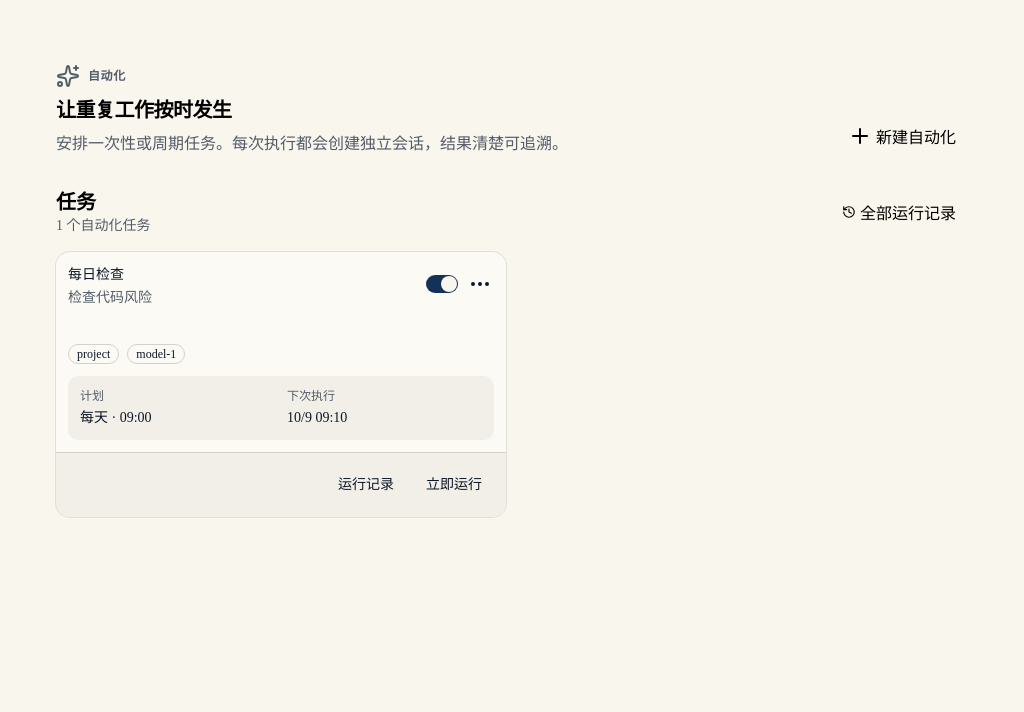
Test: automationsPage › 创建任务时使用平台中立的命令权限配置
The width and height of the screenshot is (1024, 712).
Click the button "新建自动化". click: (902, 136)
box: [836,116,968,156]
(page scrolled)
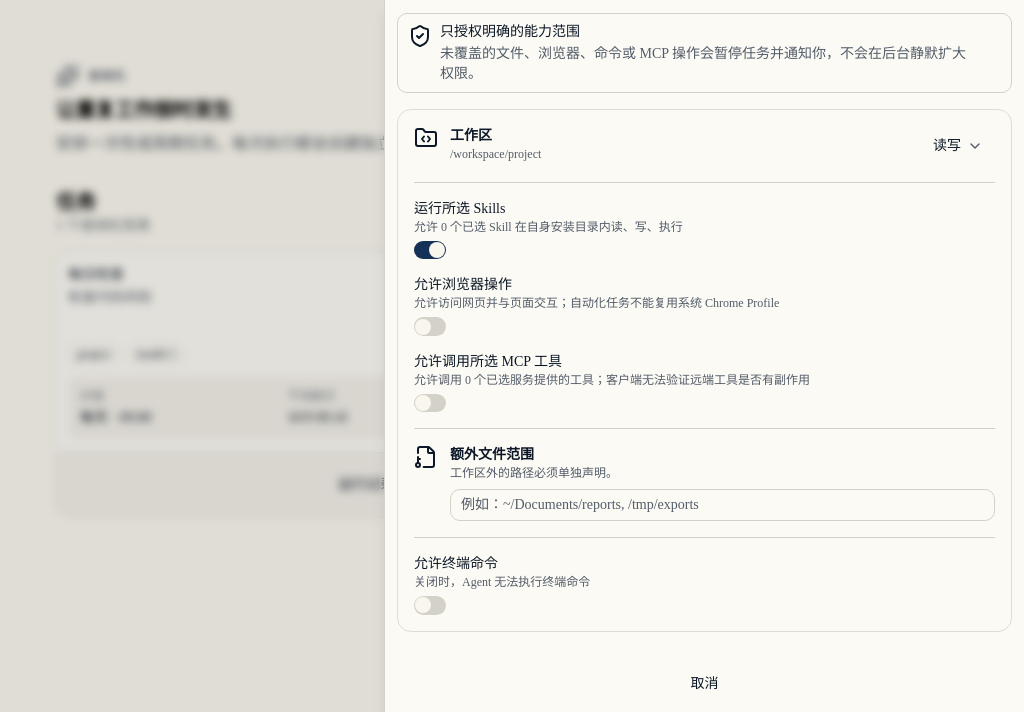
Expected: the field labelled "允许的命令模式" is not shown
Now the switch named "允许终端命令" below "关闭时，Agent 无法执行终端命令" is not checked
Click the switch named "允许终端命令" below "关闭时，Agent 无法执行终端命令". click: (430, 605)
box: [414,596,446,615]
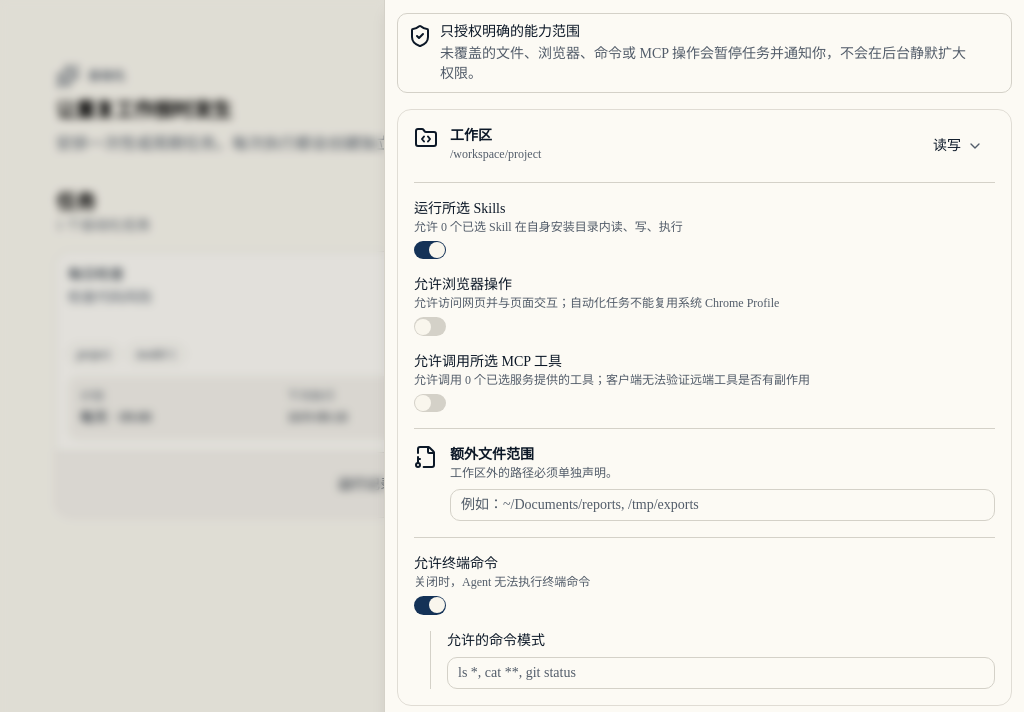
Now the field labelled "允许的命令模式" is shown, box [447,657,995,689]
